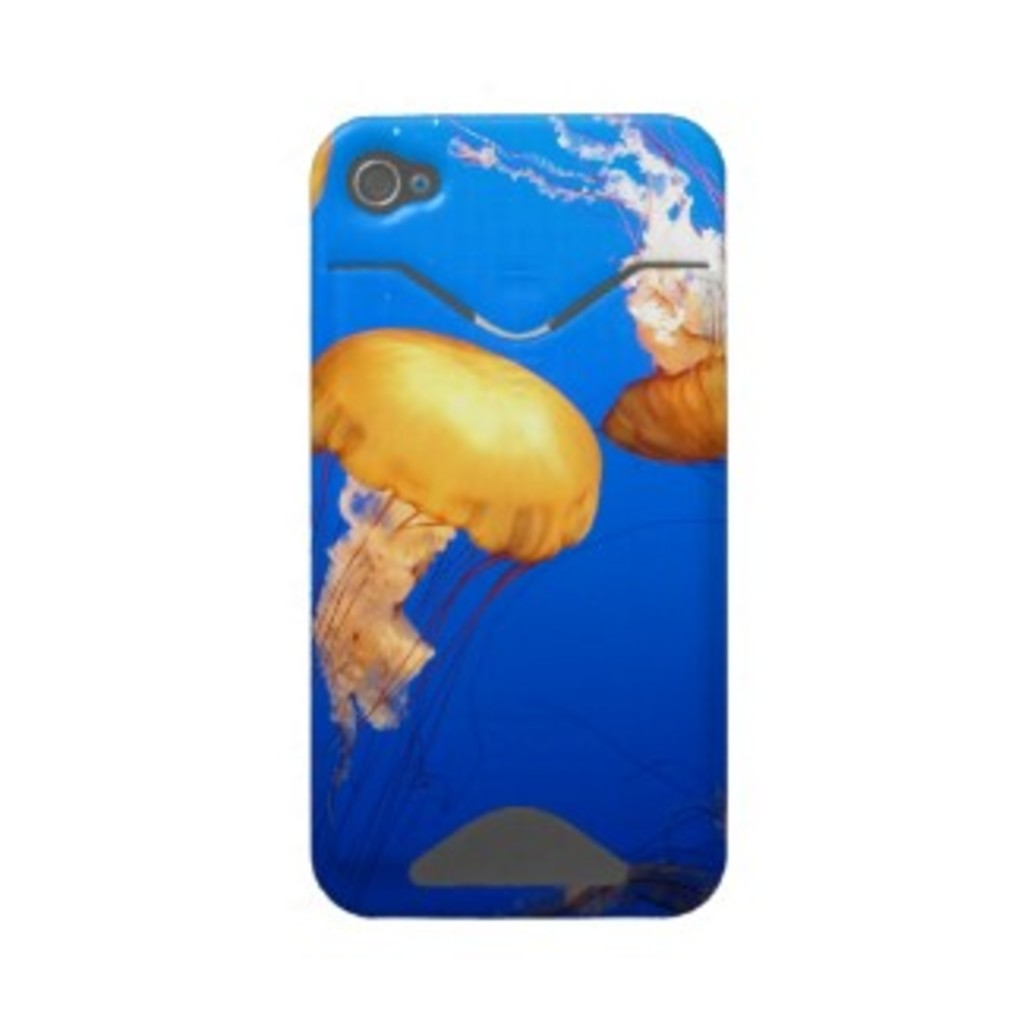Jellyfish: (308, 324, 604, 790), (428, 103, 730, 456)
